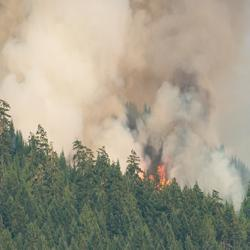fire: (152, 159, 173, 186)
smoke: (18, 24, 92, 129)
